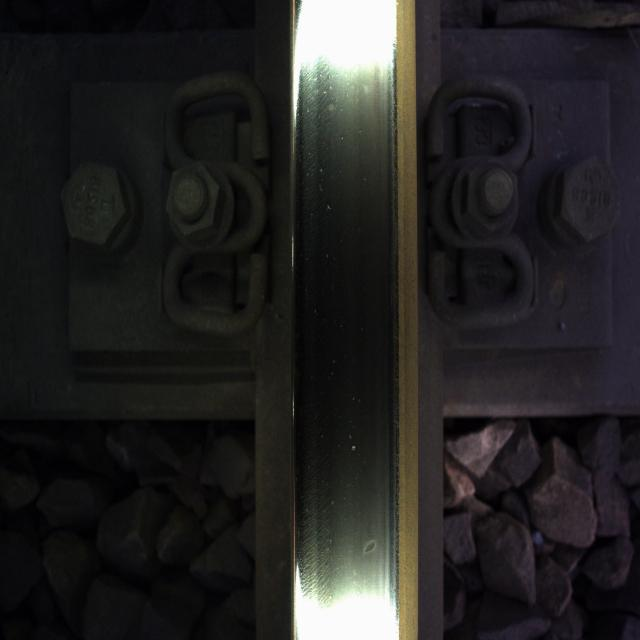break: (291, 35, 394, 593)
